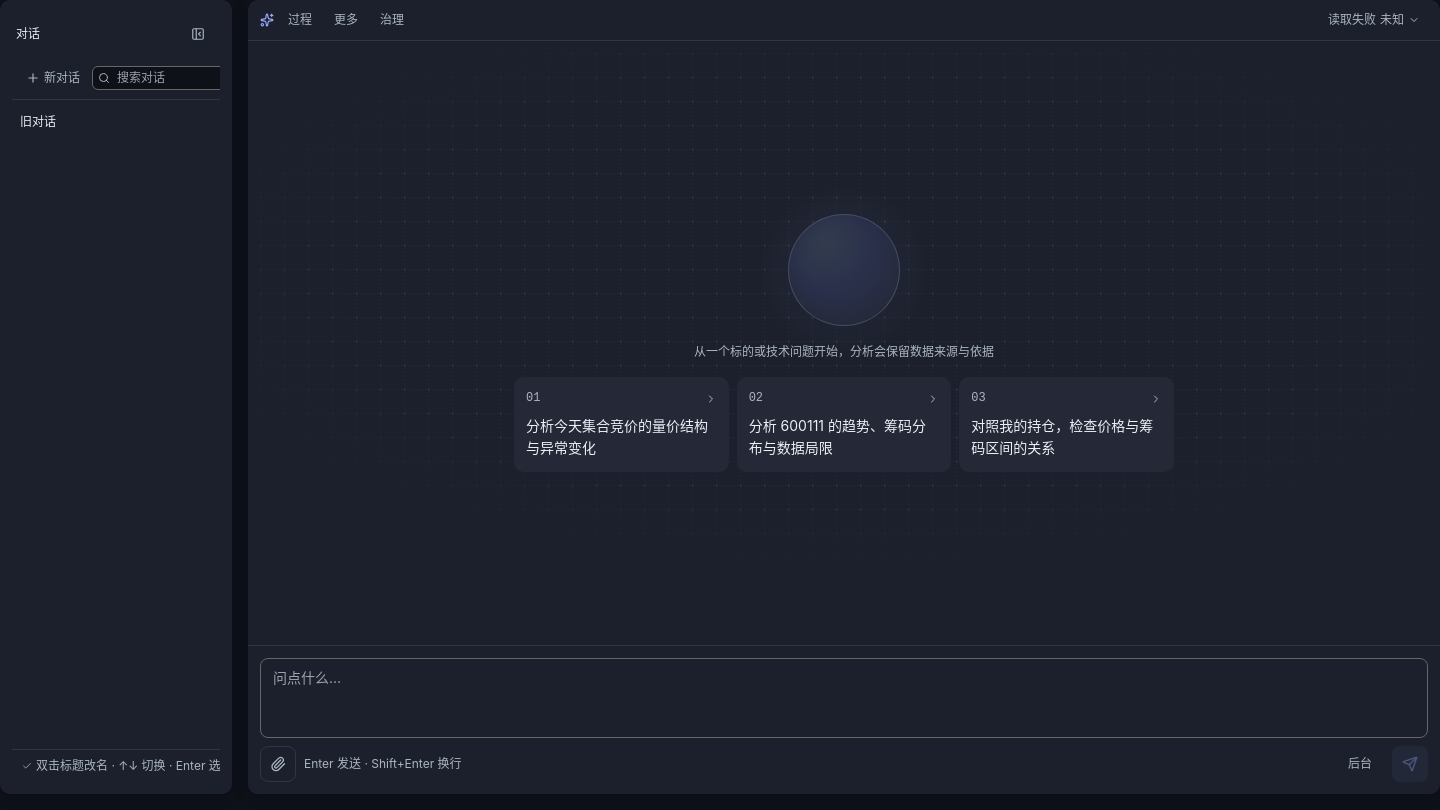
Test case: 流中途 reject · 半截正文必须标成不完整 › 切走的旧流断在半截：标记与正文都不许落到新会话上
Expected: the button named "发送" is shown, [1392,746,1428,782]
Type "600111 怎么看" into the text box with placeholder "问点什么…" at coordinates (844, 698), box [260,658,1428,738]
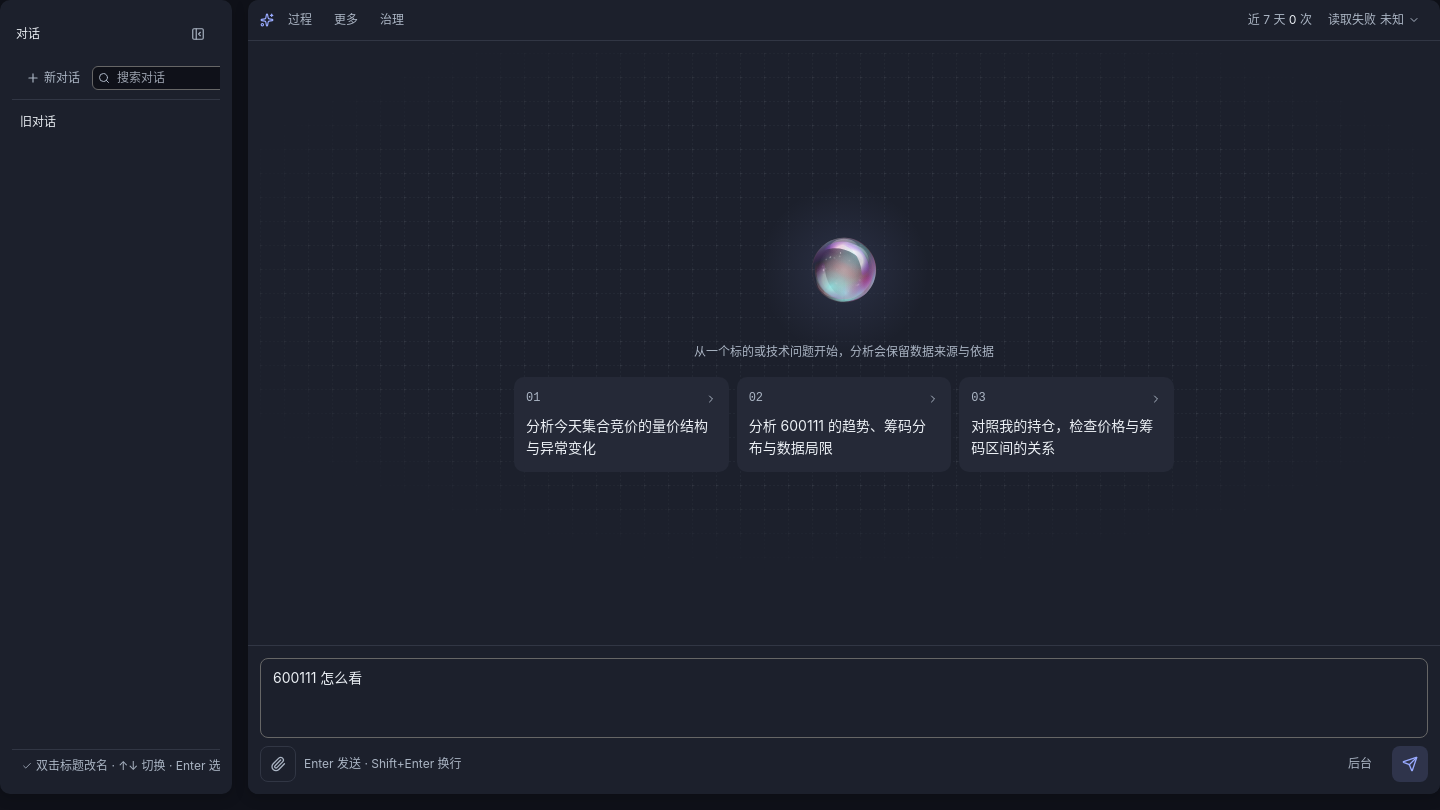
Click the button named "发送" at coordinates (1410, 764), box [1392,746,1428,782]
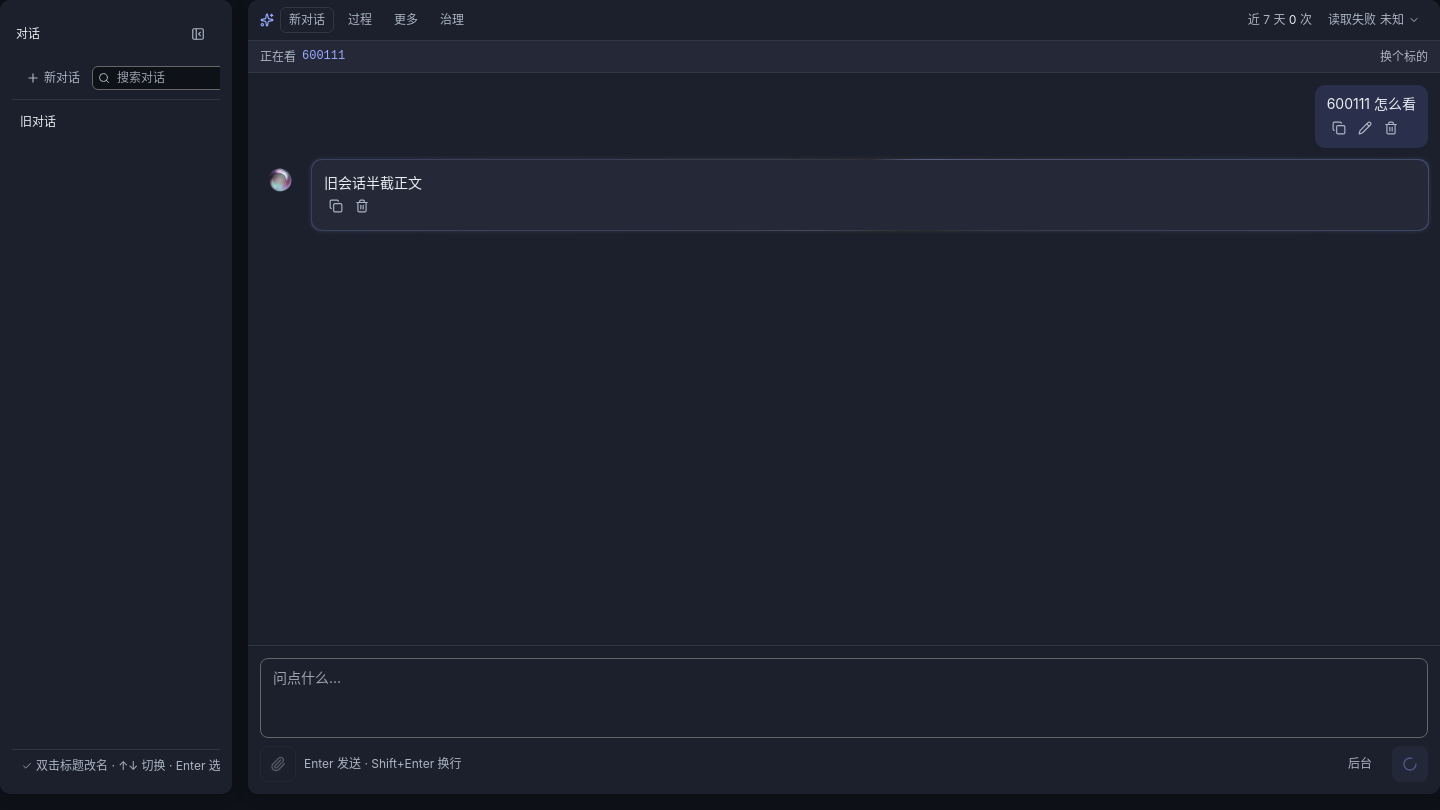
Expected: the text "旧会话半截正文" is shown, [324,174,422,191]
Click the button with test id "copilot-conv-title-9" at coordinates (126, 121), box [20,112,233,131]
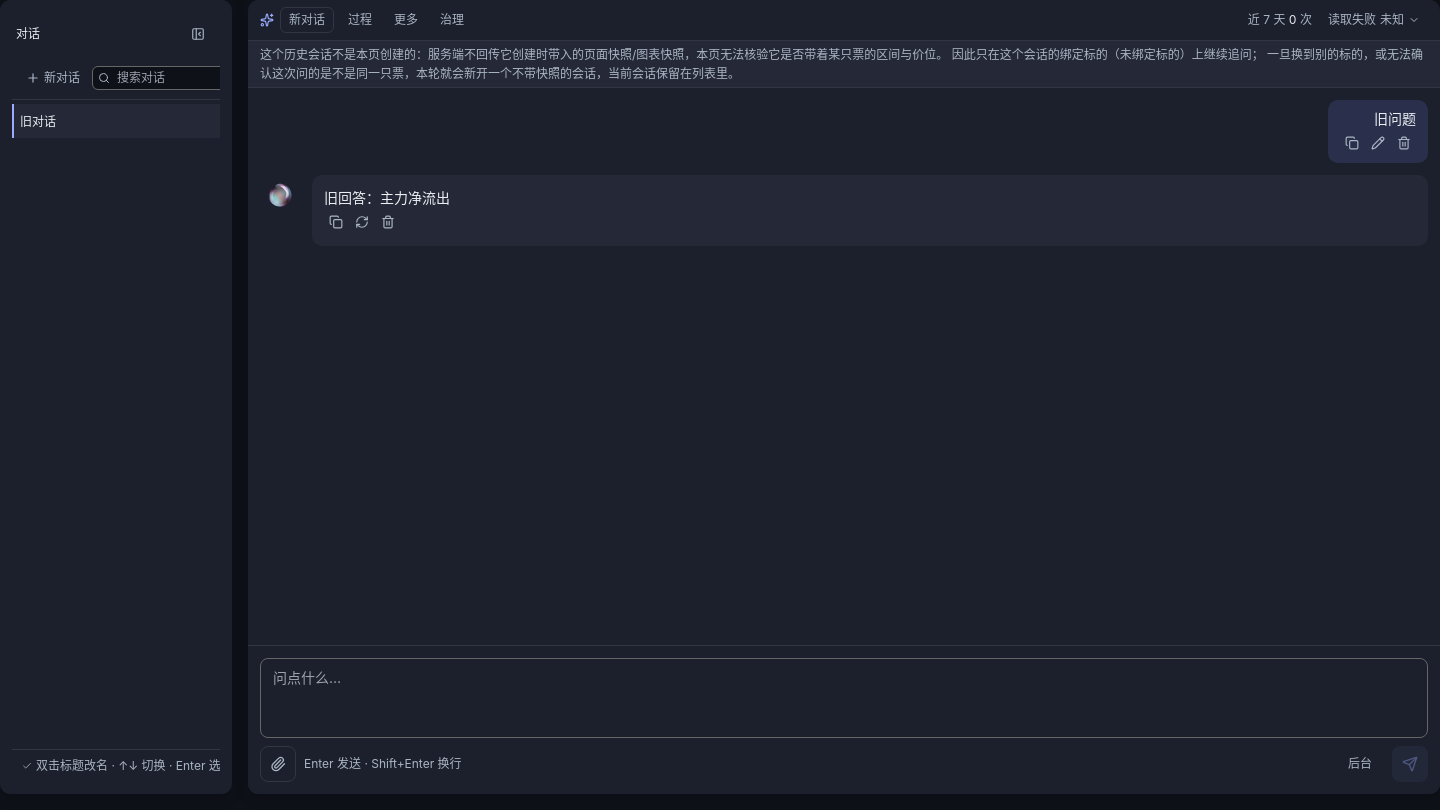
Expected: the text "旧会话半截正文" is gone
Expected: the text "旧回答：主力净流出" is shown, [324,189,450,206]
